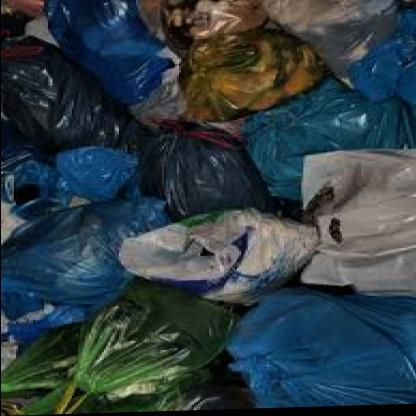Plastic: (206, 279, 416, 412), (2, 187, 174, 347), (6, 0, 113, 159), (135, 0, 268, 119), (140, 120, 260, 228), (242, 94, 388, 179)
